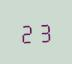three: (36, 19, 52, 43)
two: (19, 20, 35, 44)
